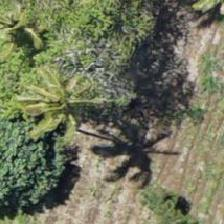coconut_tree: (5, 61, 95, 151)
